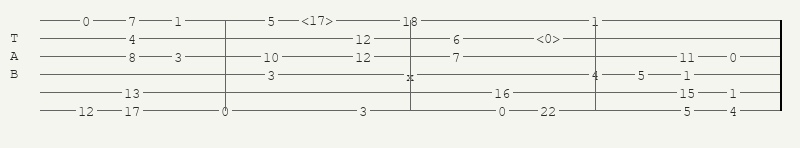0: (82, 14, 94, 27), (221, 104, 233, 117), (498, 104, 510, 117), (729, 50, 741, 63)
1: (174, 14, 186, 27), (591, 14, 603, 27), (683, 68, 695, 81), (729, 86, 741, 99)
10: (263, 50, 283, 63)
11: (679, 50, 699, 63)
12: (78, 104, 98, 117), (355, 50, 375, 63), (355, 32, 375, 45)
13: (124, 86, 144, 99)
15: (679, 86, 699, 99)
16: (494, 86, 514, 99)
17: (124, 104, 144, 117)
18: (402, 14, 422, 27)
22: (540, 104, 560, 117)
3: (174, 50, 186, 63), (267, 68, 279, 81), (359, 104, 371, 117)
4: (128, 32, 140, 45), (591, 68, 603, 81), (729, 104, 741, 117)
5: (267, 14, 279, 27), (637, 68, 649, 81), (683, 104, 695, 117)
6: (452, 32, 464, 45)
7: (128, 14, 140, 27), (452, 50, 464, 63)
8: (128, 50, 140, 63)
harmonic: (301, 13, 337, 27), (536, 31, 564, 45)
x: (406, 69, 418, 79)
